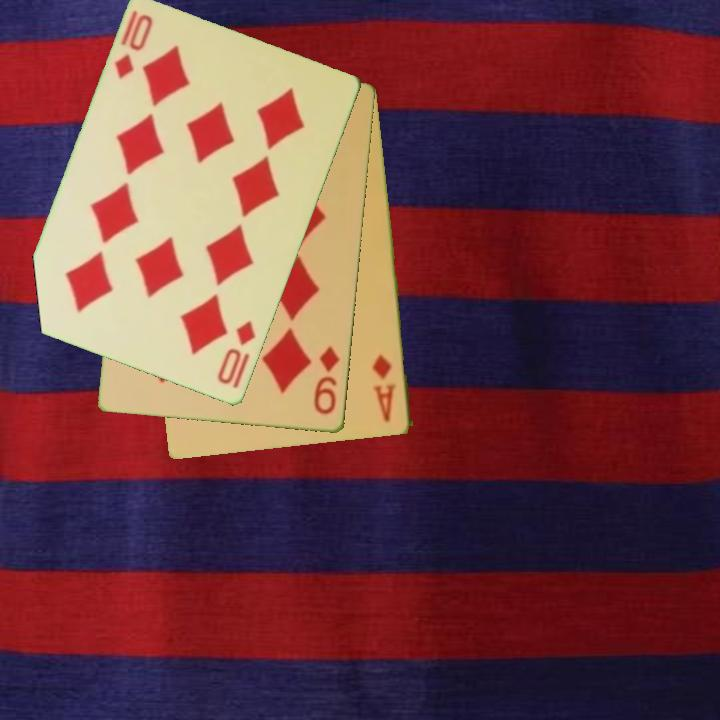10d: (111, 11, 156, 83), (214, 317, 259, 388)
9d: (311, 343, 343, 418)
Ad: (369, 351, 399, 425)
